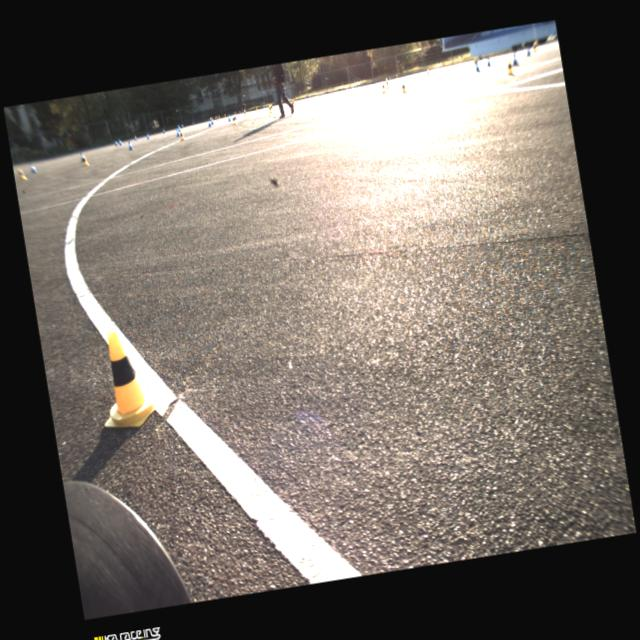blue_cone: (511, 52, 518, 66), (127, 140, 134, 151), (31, 164, 38, 174), (485, 56, 491, 67), (474, 62, 480, 73), (525, 46, 531, 56), (118, 138, 124, 146), (80, 152, 84, 162), (176, 128, 180, 137), (208, 119, 212, 128), (227, 113, 231, 121), (146, 132, 150, 139), (210, 118, 214, 125), (178, 125, 182, 132), (134, 135, 138, 141), (162, 128, 165, 134), (115, 140, 118, 146), (234, 113, 236, 120), (181, 124, 184, 128), (192, 121, 195, 125), (308, 94, 310, 99), (320, 92, 322, 96), (332, 90, 334, 94)
yellow_cone: (89, 326, 160, 434), (18, 167, 28, 181), (506, 60, 514, 76), (81, 154, 90, 166), (178, 130, 185, 142), (231, 114, 237, 125), (401, 81, 406, 94), (381, 82, 386, 94), (532, 42, 538, 52), (385, 78, 390, 89), (268, 104, 272, 114), (473, 58, 478, 66), (243, 108, 247, 116), (426, 68, 429, 78), (270, 103, 273, 111), (215, 115, 218, 121), (292, 98, 294, 106), (218, 114, 220, 120), (255, 106, 258, 110), (224, 114, 226, 119)
